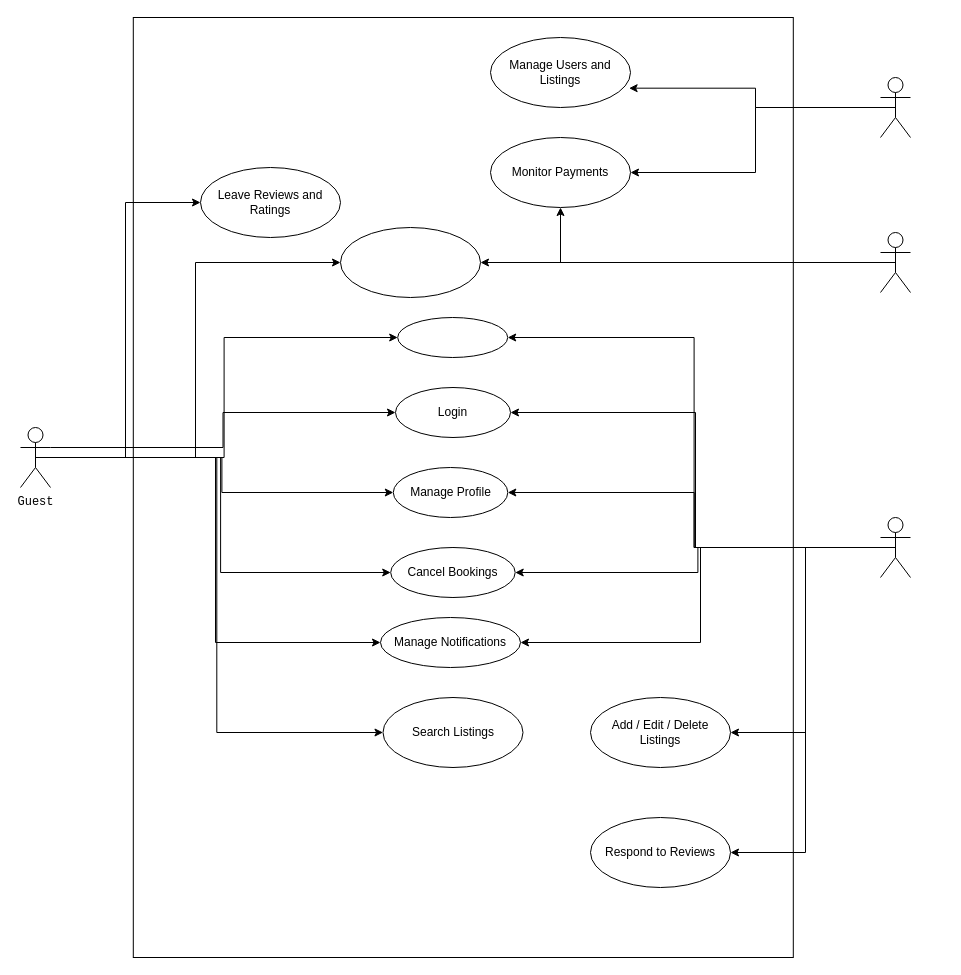
Some shapes in this 961 by 975 pixel diagram are drawn without their labels. Each missing label, with the centre of its shape:
"Admin" belongs at (895,107).
"Book property" belongs at (410,262).
"Host" belongs at (895,547).
"Payment Gateway" belongs at (895,262).
"Register" belongs at (452,337).
